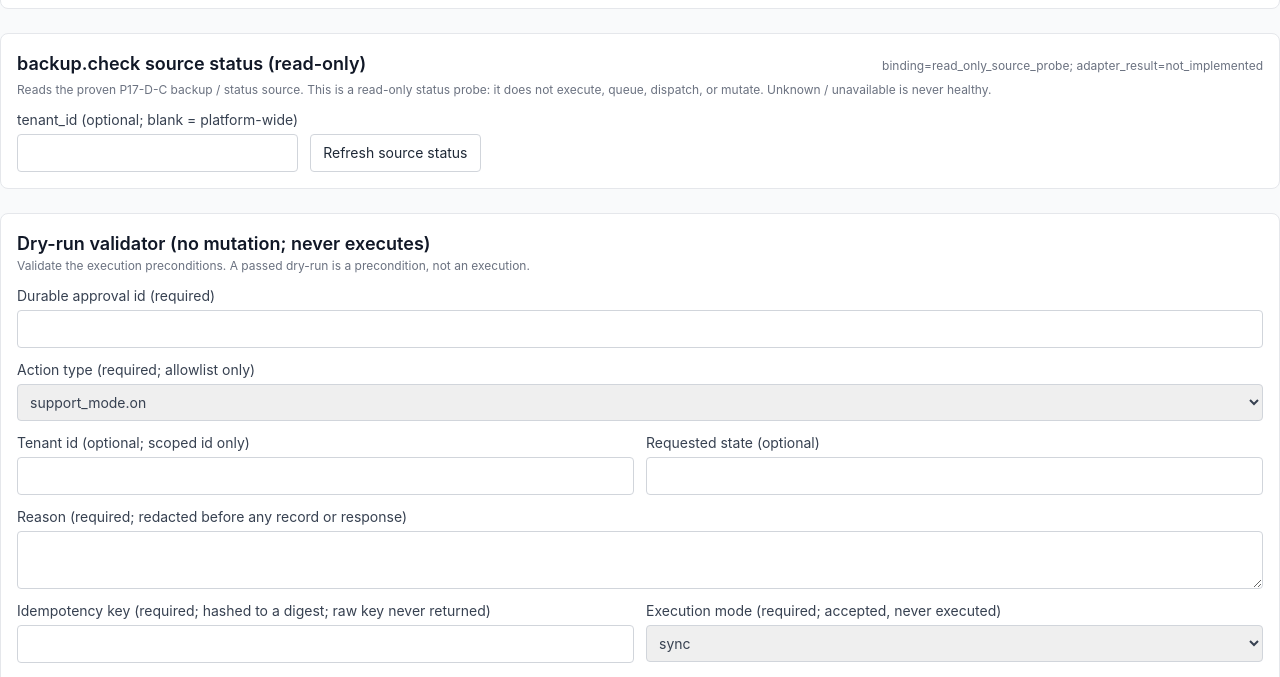
Test: PlatformControlledExecutionConsolePage › P22-P04: a blocked dry-run shows block reasons and keeps recording unavailable
The width and height of the screenshot is (1280, 677).
(page scrolled)
In the field with test id "p22-approval-input": (640, 329) [17, 310, 1263, 348], type "appr-1"
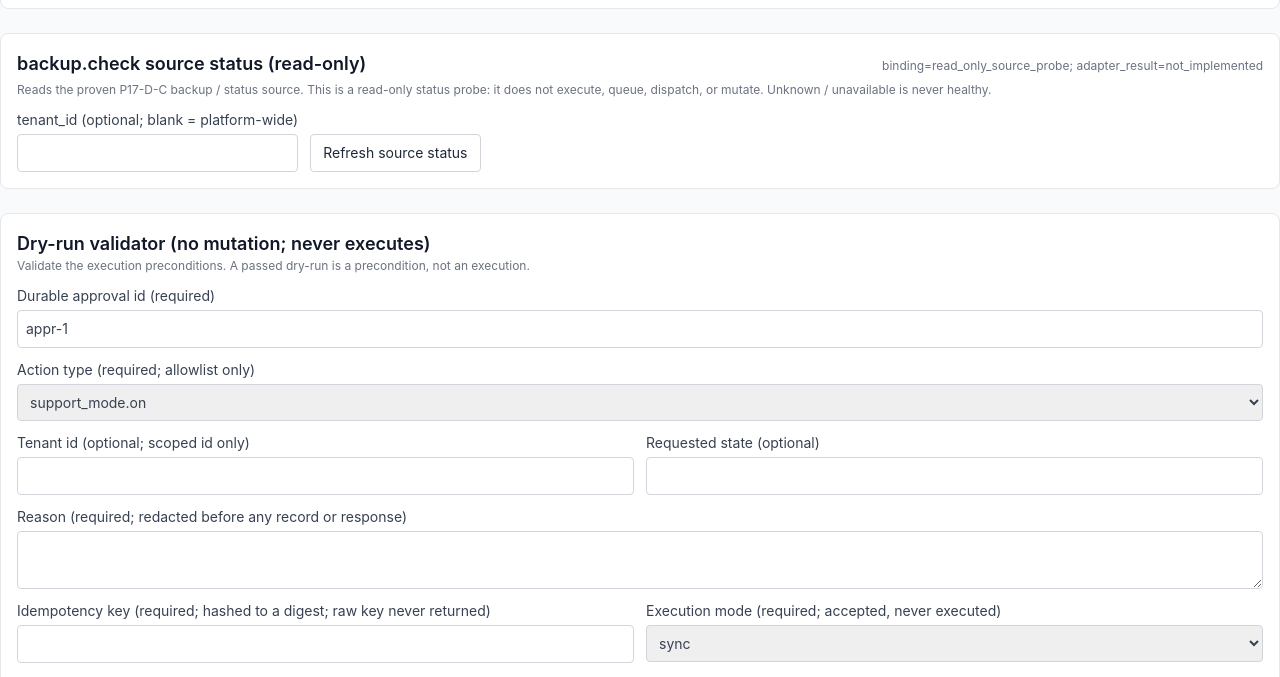
In the text box with test id "p22-reason-input": (640, 560) [17, 531, 1263, 589], type "routine review"
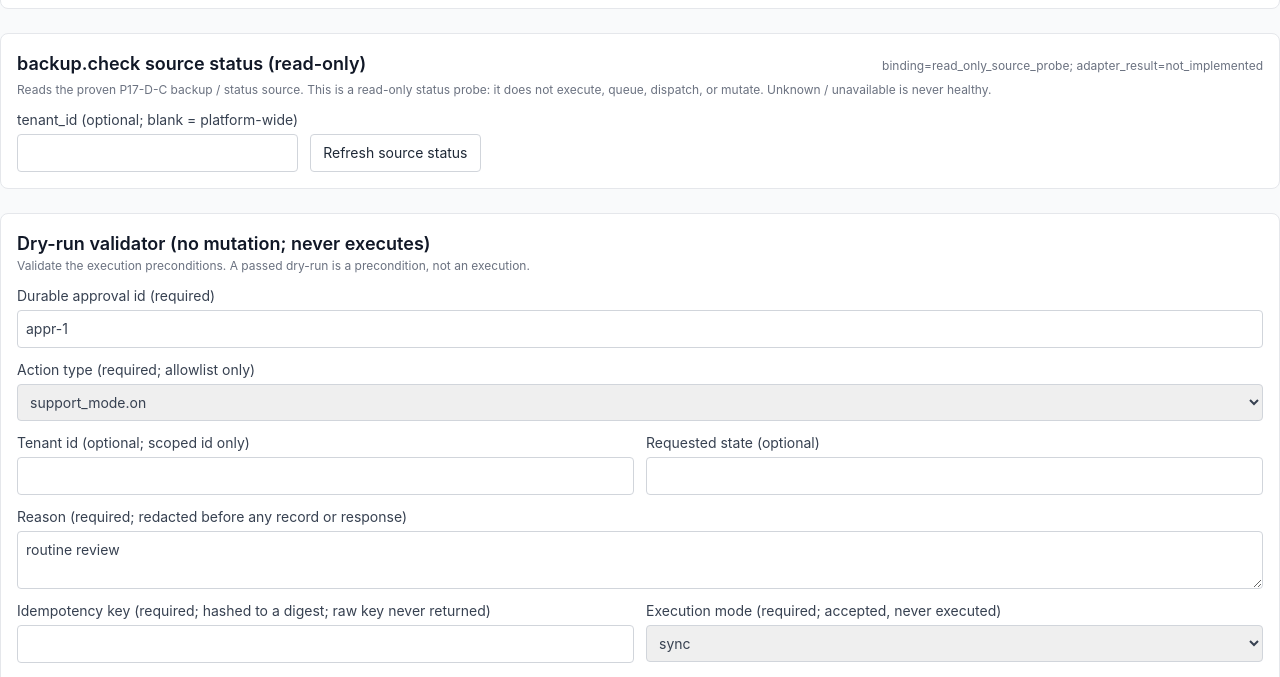
In the field with test id "p22-idempotency-input": (326, 644) [17, 625, 634, 663], type "RAW-SECRET-KEY-XYZ"
(page scrolled)
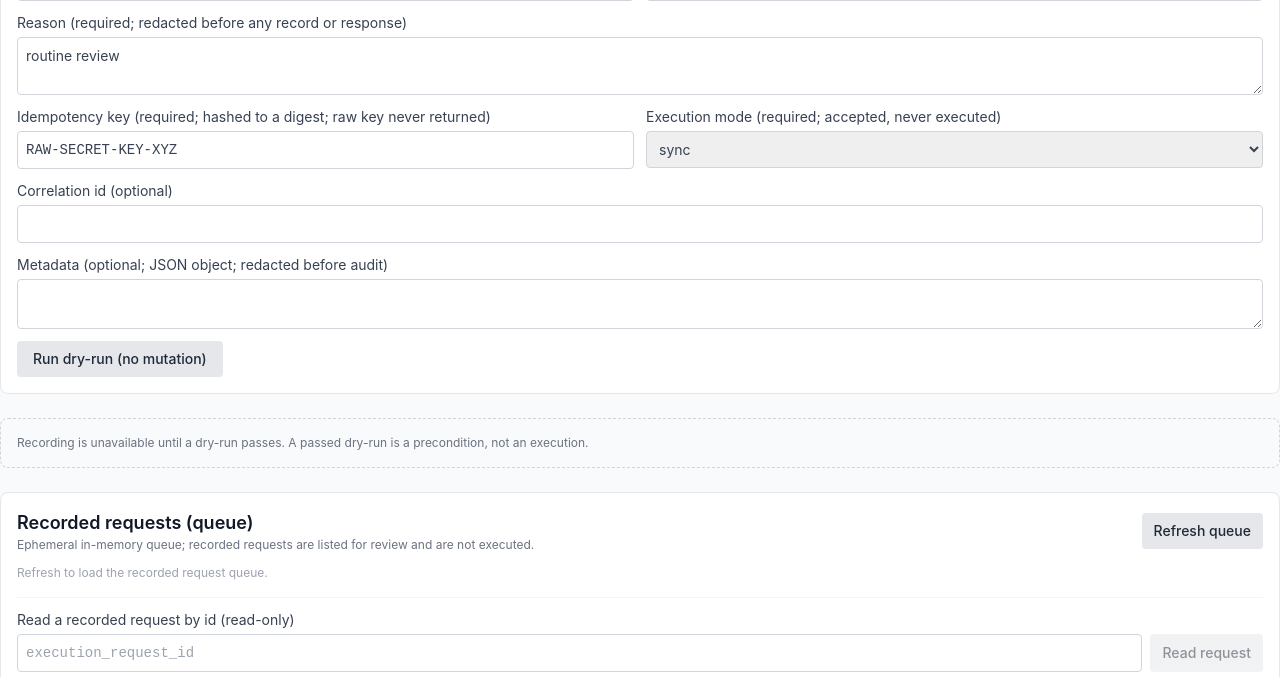
Click the button with test id "p22-dry-run-btn": (120, 359) [17, 341, 223, 377]
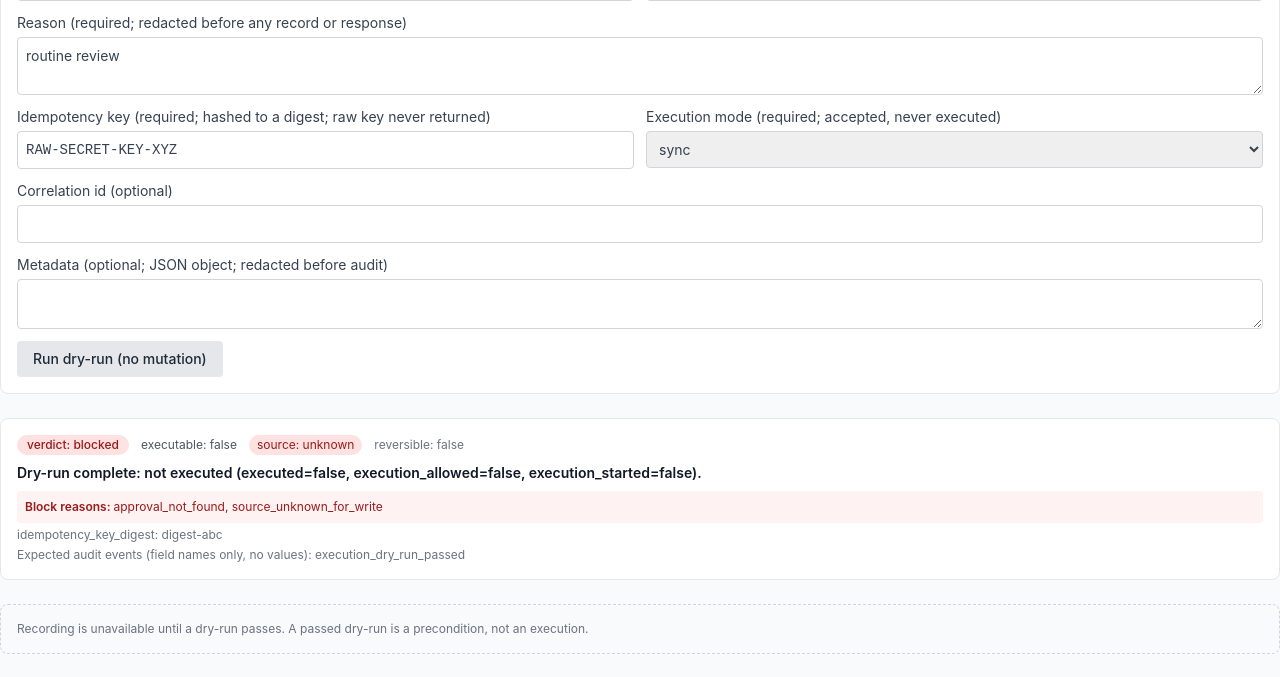
Expected: the element with test id "p22-record-disabled" is shown, [0, 604, 1279, 654]
Expected: the element with test id "p22-block-reasons" shows "approval_not_found", [114, 499, 383, 514]
Expected: the element with test id "p22-block-reasons" shows "source_unknown_for_write", [114, 499, 383, 514]
